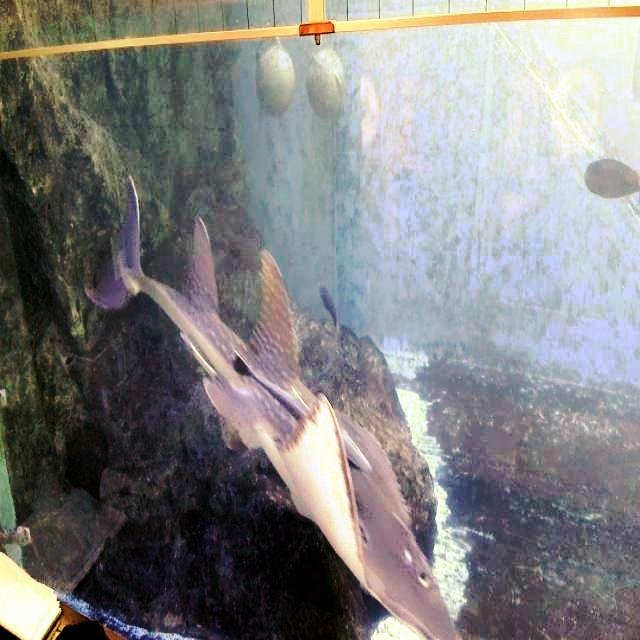Mud skate: (76, 155, 486, 640)
other black fish: (569, 136, 640, 224)
